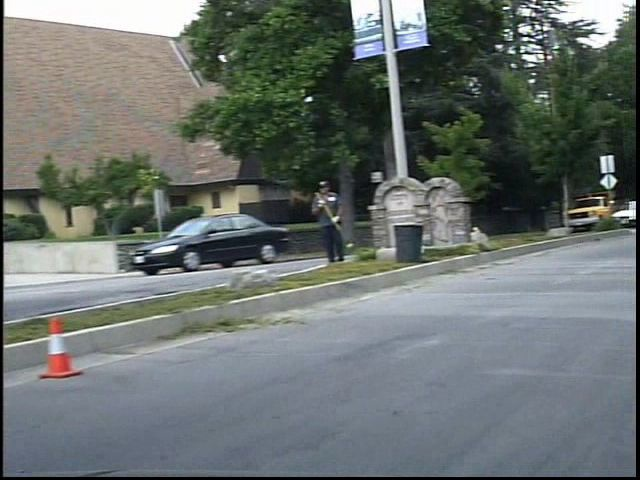person: (320, 175, 360, 266)
